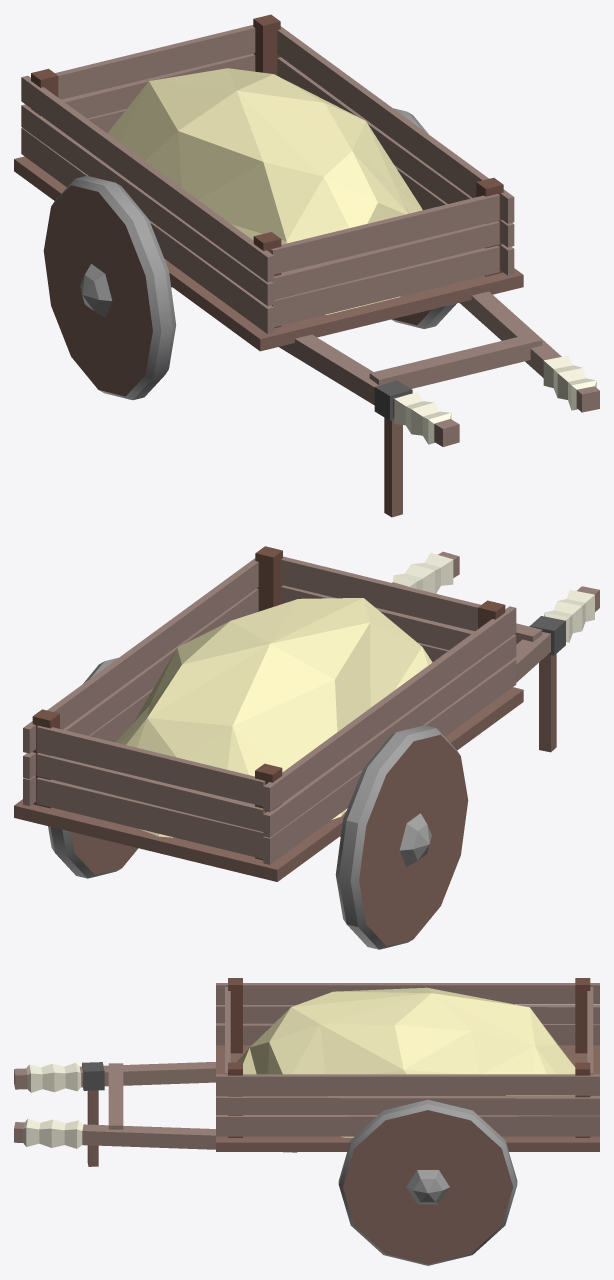
Rendered from props_073.glb.
3 views of the same model, one above another, from view 1: azimuth 30°, elevation 25°; view 2: azimuth 150°, elevation 25°; view 3: azimuth 270°, elevation 25° (orthographic). The views are drawn at different scales.
Visible parts, largest first — view 1: props_073; view 2: props_073; view 3: props_073.
Part boxes in pixels (bbox=[...]): props_073: bbox=[14, 14, 599, 517]; props_073: bbox=[14, 546, 599, 949]; props_073: bbox=[14, 978, 599, 1265].
Bounding box in the file's own units: 3.94 × 2.91 × 7.4.
1 material, 1 textured.
